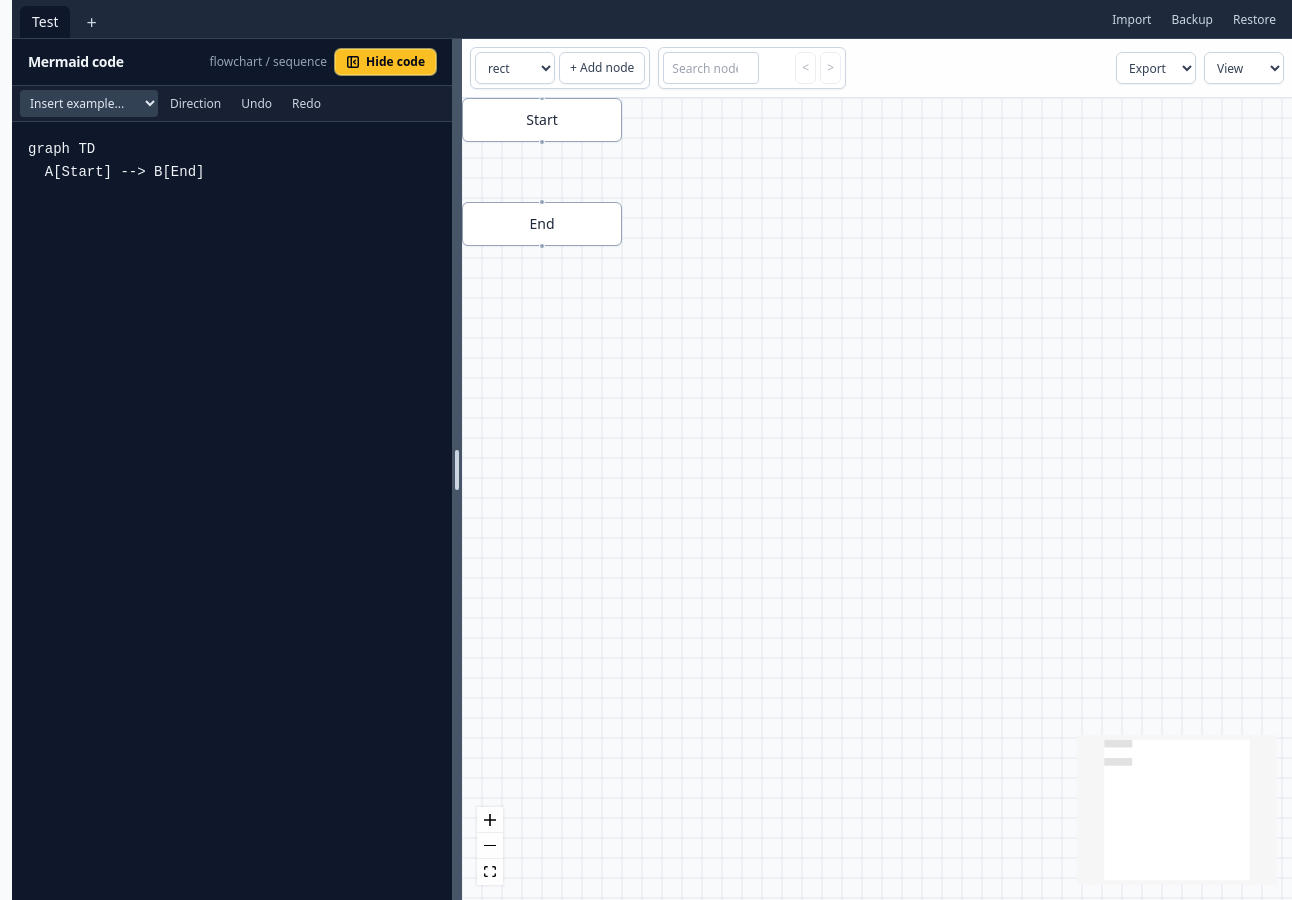
Test: MermaidVisualEditor: node label editing › hides and restores the Mermaid code panel while keeping the diagram visible
The image size is (1292, 900).
Check: the text "Start" is shown, box [462, 98, 622, 142]
Check: the text box is shown, box [12, 122, 452, 899]
Click the button "Hide code": click(386, 62) [335, 49, 436, 75]
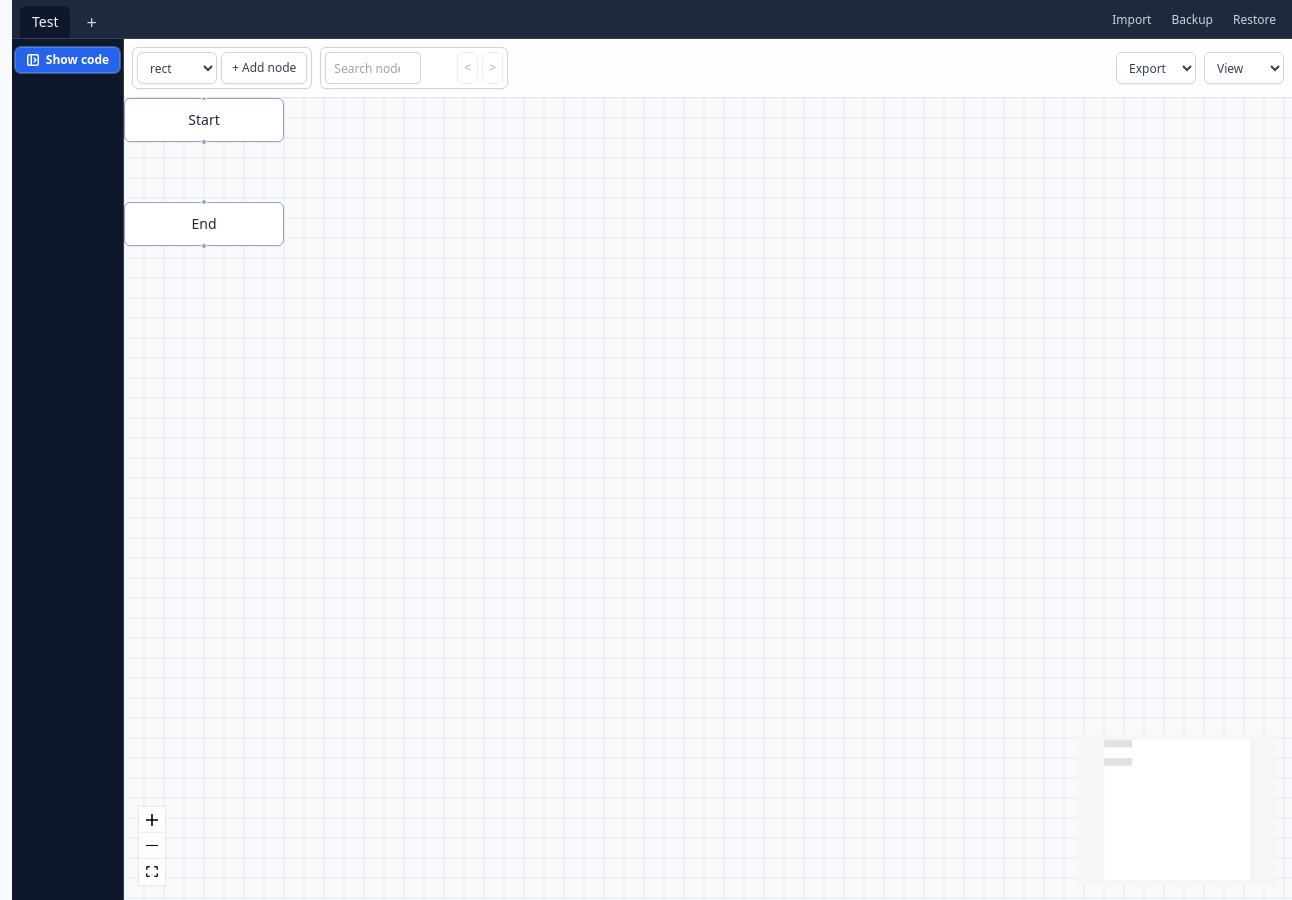
Check: the text "Start" is shown, box [124, 98, 284, 142]
Check: the 1st icon is shown, box [26, 53, 40, 67]
Click the button "Show code": click(68, 60) [15, 47, 120, 73]
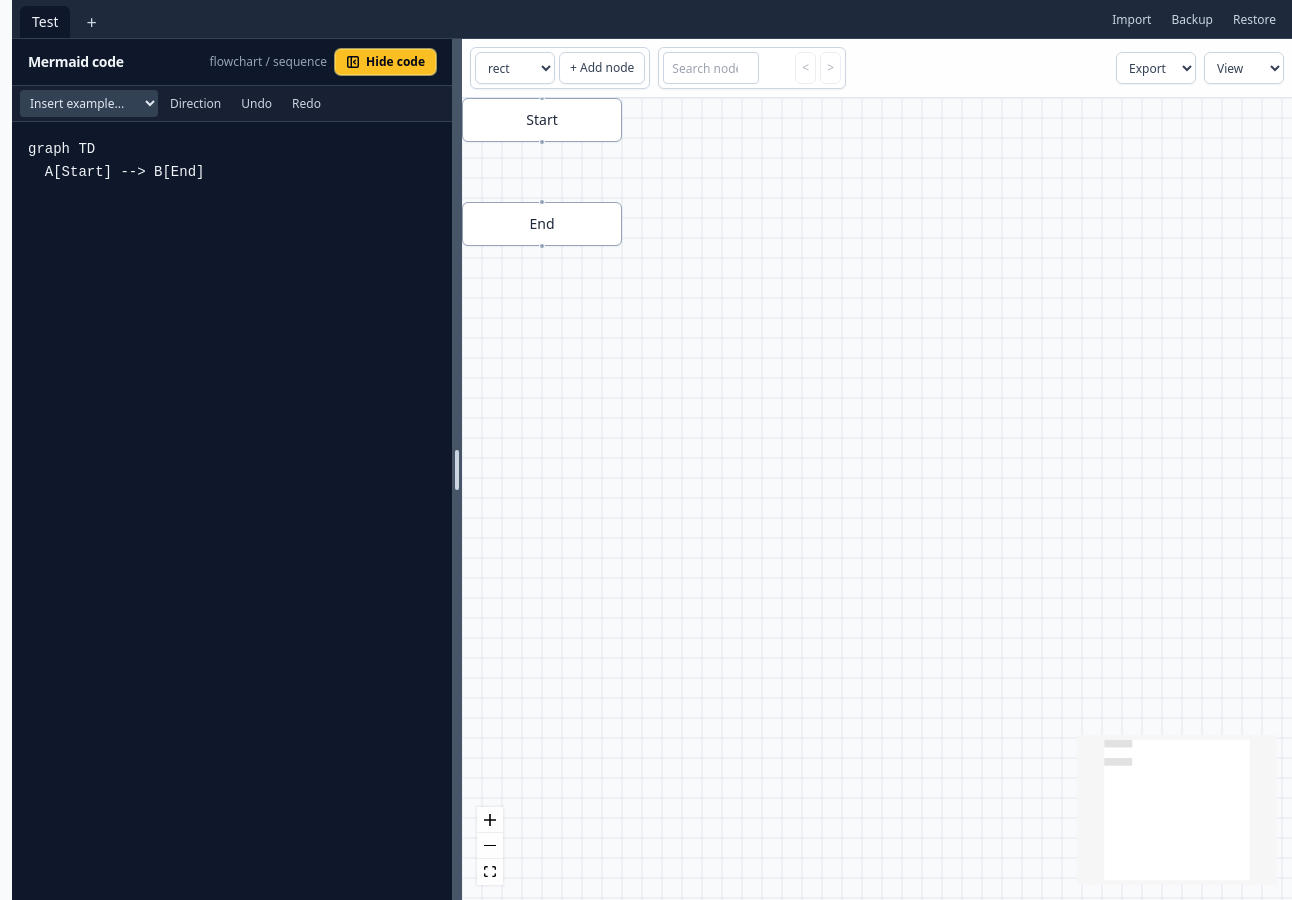
Check: the text box is shown, box [12, 122, 452, 899]
Check: the element titled "Drag to resize panels" is shown, box [452, 39, 462, 899]
